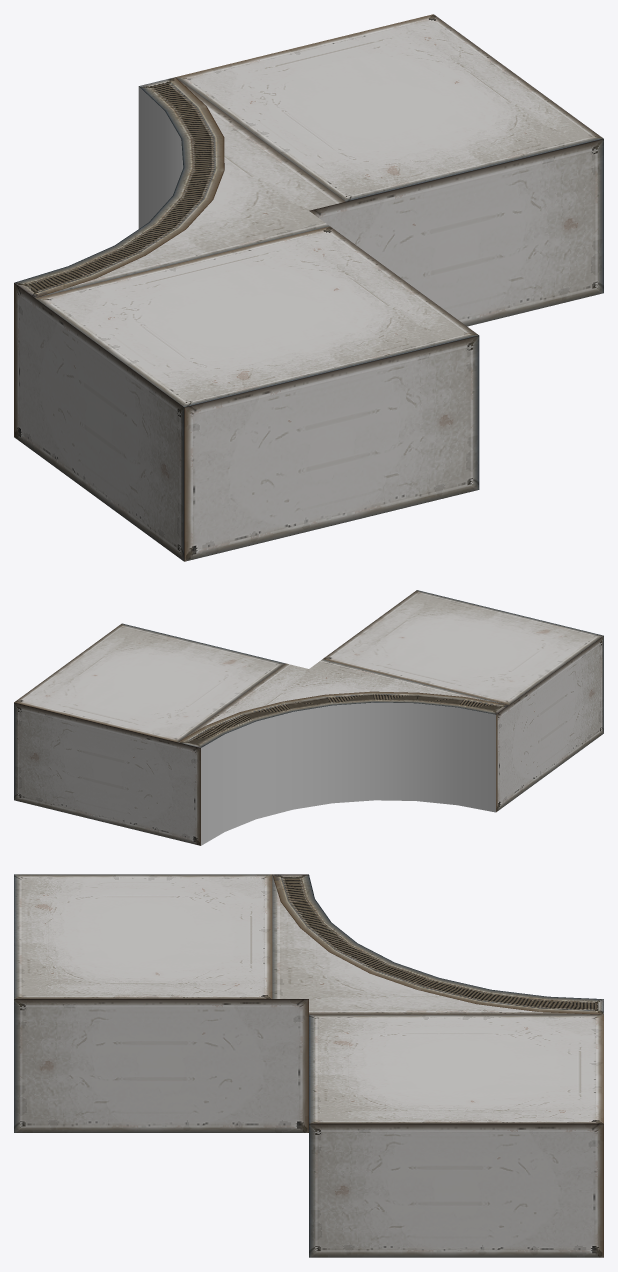
The model's file is scifi_floor_plateau_1.FBX.
3 renders of one model, top to bottom at view 1: azimuth 30°, elevation 25°; view 2: azimuth 150°, elevation 25°; view 3: azimuth 270°, elevation 25°, orthographic. The views are drawn at different scales.
Visible parts, largest first — view 1: Plane365; view 2: Plane365; view 3: Plane365.
Part boxes in pixels (box(x1,y1,x2,y2)): Plane365: box(14, 14, 603, 561); Plane365: box(14, 590, 603, 845); Plane365: box(14, 874, 603, 1257).
Bounding box in the file's own units: 508 × 127 × 508.
